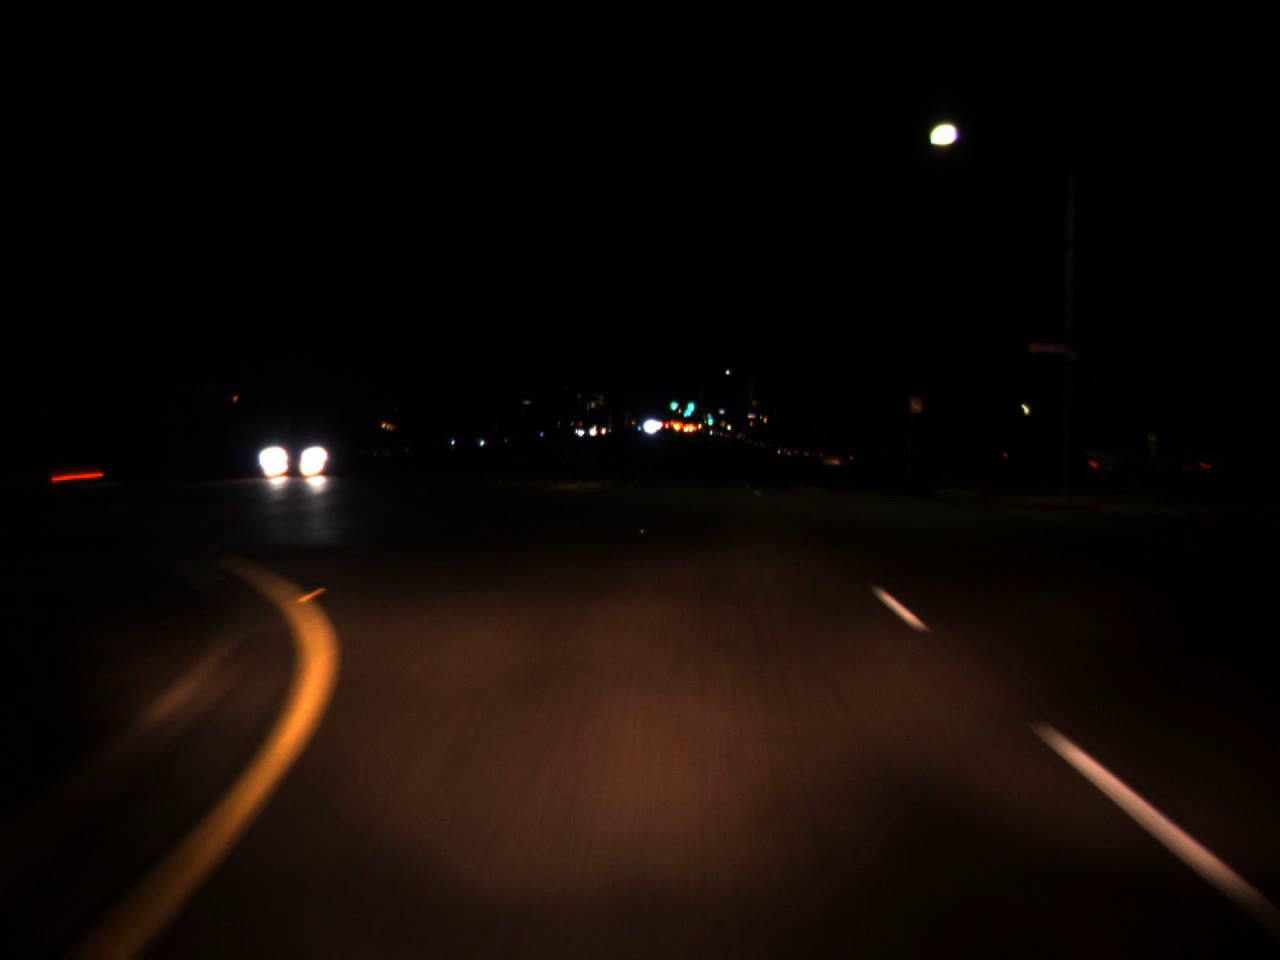go: (682, 391, 696, 415), (668, 393, 677, 411), (706, 409, 713, 427)
